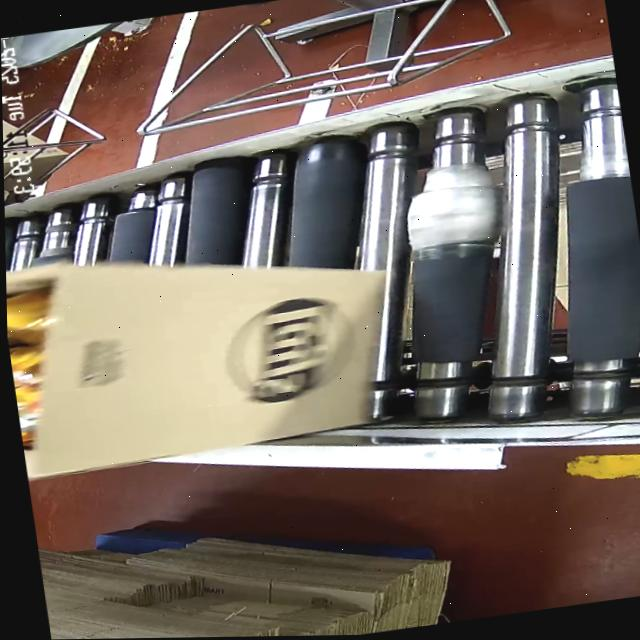FRENCH_CHEESE: (6, 279, 65, 459)
